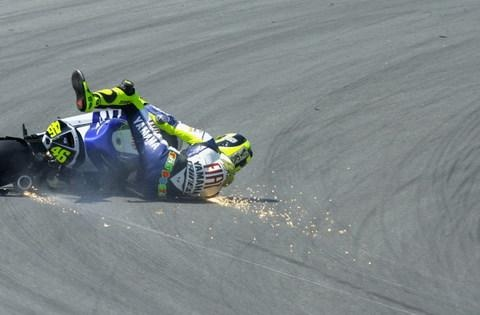falling: (57, 67, 266, 208)
